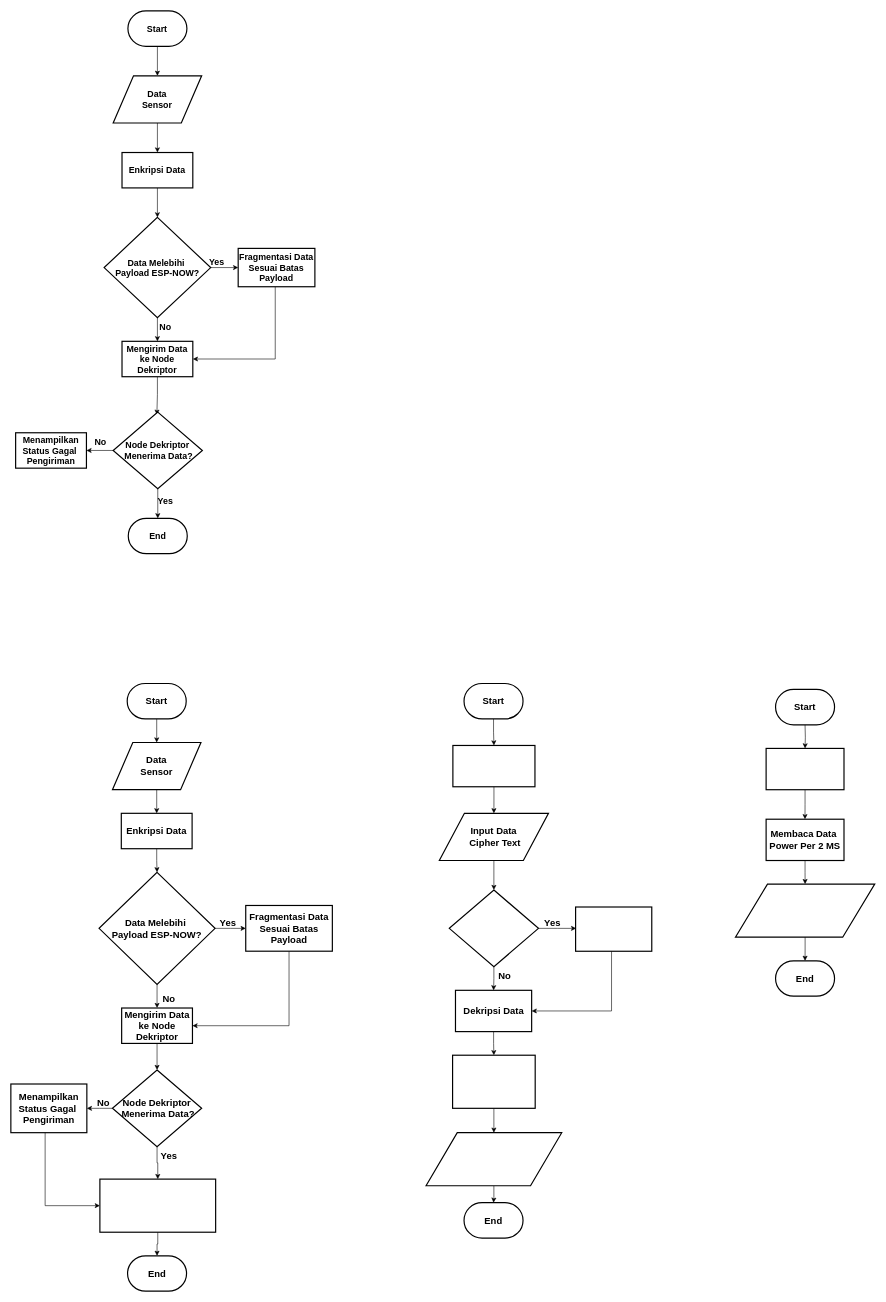
Some shapes in this 886 by 1302 pixel diagram are drawn without their labels. The shapes that lost their labels are listed below. From the top down, each one's box as (x1, y1, x2, y2) in pixels, then its label:
(452, 745, 535, 787): Menunggu Data Dikirimkan
(765, 748, 844, 790): Inisialisasi Sensor
(448, 889, 539, 967): Fragmen Data > 1?
(575, 906, 652, 952): Integrasi Data Keseluruhan
(735, 883, 875, 938): Menampilkan Data Power
(452, 1054, 535, 1109): Menyimpan Data Terdekripsi / Plain Text Pada Micro SD
(425, 1132, 562, 1186): Menampilkan Data Terdekripsi dan Waktu Komputasi
(99, 1178, 216, 1233): Menampilkan Cipher Text dan Waktu Komputasi
